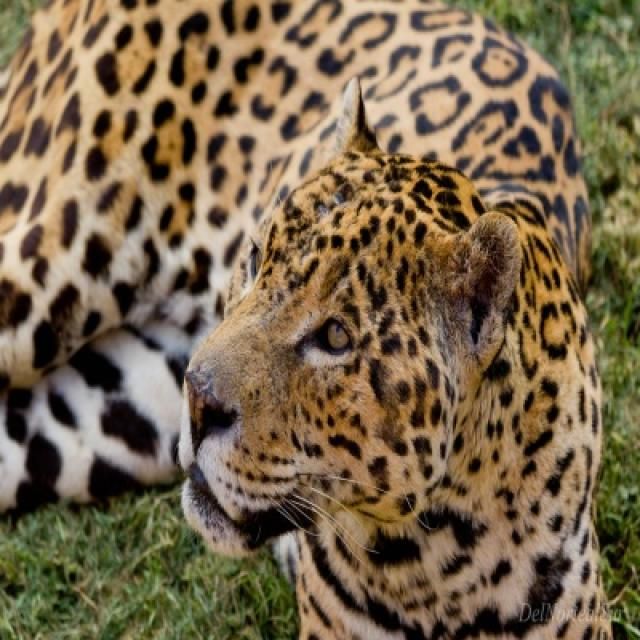Jaguar: (0, 0, 616, 638)
